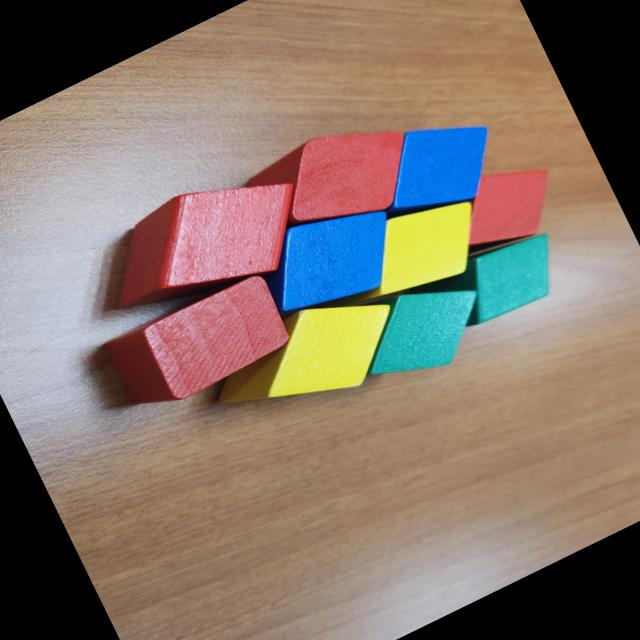blue: (245, 183, 414, 332), (354, 98, 512, 236)
green: (336, 255, 502, 400), (438, 220, 570, 333)
red: (83, 148, 325, 342), (238, 100, 431, 260), (101, 266, 296, 421), (444, 146, 572, 262)
yellow: (195, 268, 422, 446), (322, 180, 500, 324)
